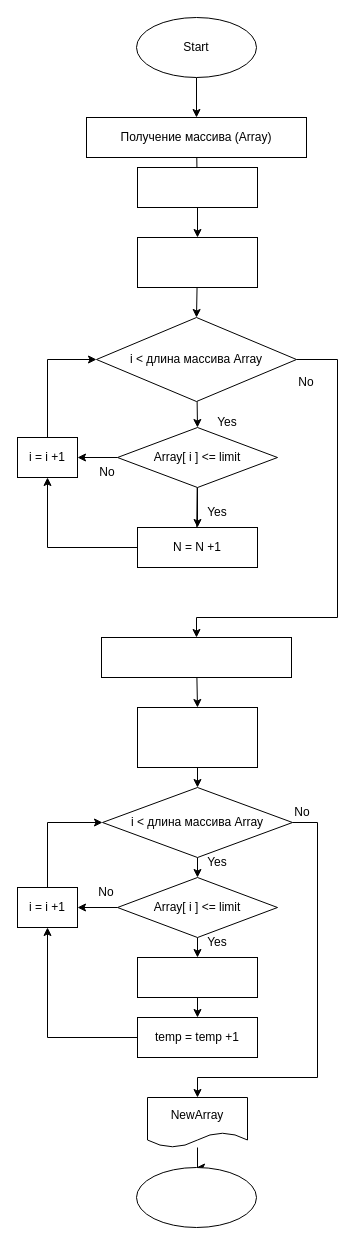
The diagram is 363 pixels wide and 1245 high, and some of its shapes have lost their labels. The shapes that lost their labels are listed below. From the top down, each one's box as (x1, y1, x2, y2) in pixels, then its label:
(136, 166, 258, 208): Лимит [limit = 3]
(136, 236, 258, 288): N= 0 i = 0
(100, 636, 292, 678): Инициализация (NewArray), с размером N
(136, 706, 258, 768): temp = 0 i = 0
(136, 956, 258, 998): NewArray[ temp] = array[ i ]
(136, 1166, 256, 1228): Конец
